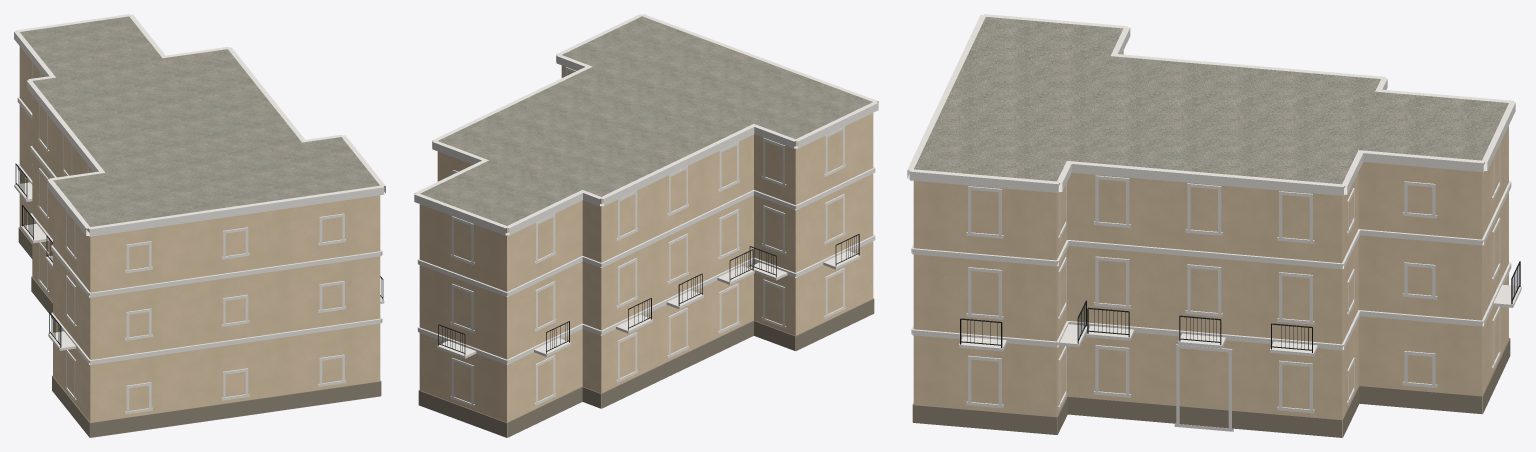
3 renders of one model, left to right at view 1: azimuth 30°, elevation 25°; view 2: azimuth 150°, elevation 25°; view 3: azimuth 270°, elevation 25°, orthographic. The views are drawn at different scales.
Parts seen in each view (by area): view 1: B-w1247820568_lejos, B-w1247820568_muros, B-w1247820568_molduras, B-w1247820568_remates; view 2: B-w1247820568_lejos, B-w1247820568_muros, B-w1247820568_molduras, B-w1247820568_remates; view 3: B-w1247820568_lejos, B-w1247820568_muros, B-w1247820568_molduras, B-w1247820568_remates.
Boxes of the visible parts, bbox=[...] form: B-w1247820568_lejos: bbox=[20, 16, 380, 436]; B-w1247820568_muros: bbox=[19, 46, 380, 409]; B-w1247820568_molduras: bbox=[14, 14, 385, 437]; B-w1247820568_remates: bbox=[14, 163, 384, 350]; B-w1247820568_lejos: bbox=[419, 16, 873, 422]; B-w1247820568_muros: bbox=[419, 65, 873, 437]; B-w1247820568_molduras: bbox=[414, 14, 878, 437]; B-w1247820568_remates: bbox=[437, 234, 860, 358]; B-w1247820568_lejos: bbox=[913, 17, 1508, 419]; B-w1247820568_muros: bbox=[913, 162, 1416, 436]; B-w1247820568_molduras: bbox=[907, 14, 1515, 437]; B-w1247820568_remates: bbox=[959, 261, 1521, 356].
Size of the model in its own units: 15.25 by 10.12 by 22.
6 materials, 6 textured.
